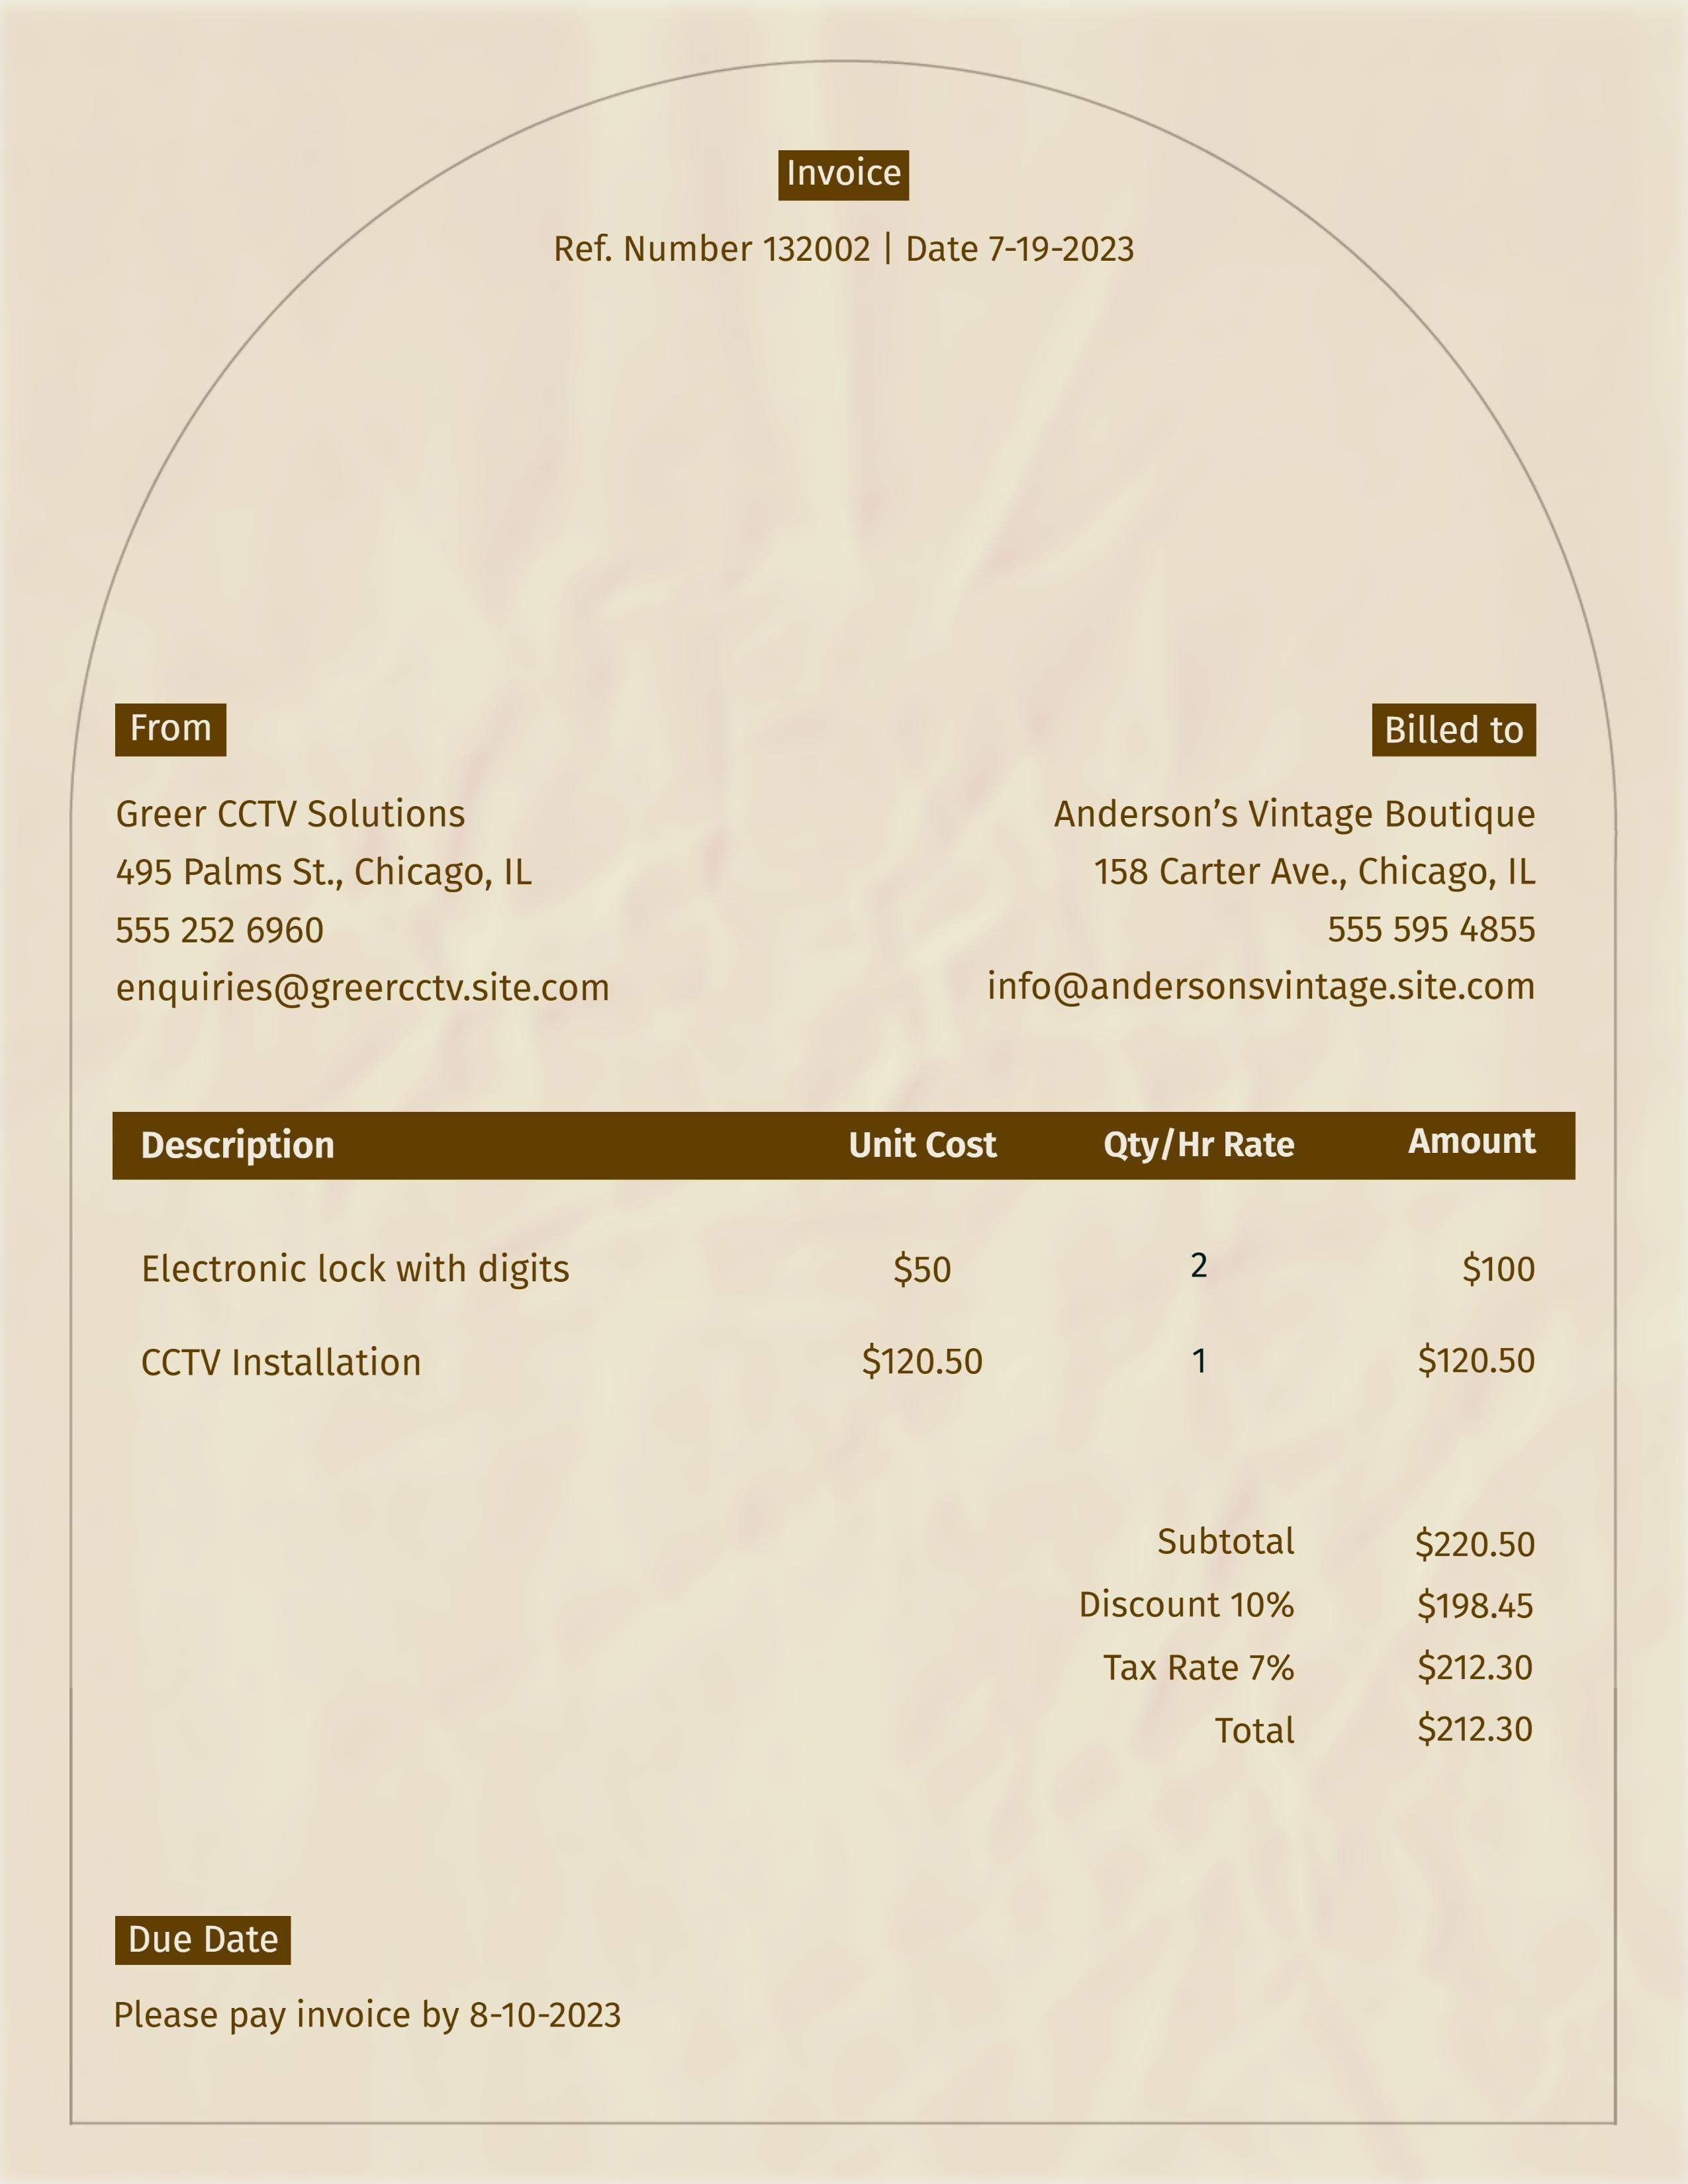ROI: (109, 1109, 1579, 1416), (983, 698, 1542, 1023), (99, 695, 619, 1013), (1076, 1519, 1546, 1754), (109, 1916, 635, 2055), (546, 225, 1142, 275)
